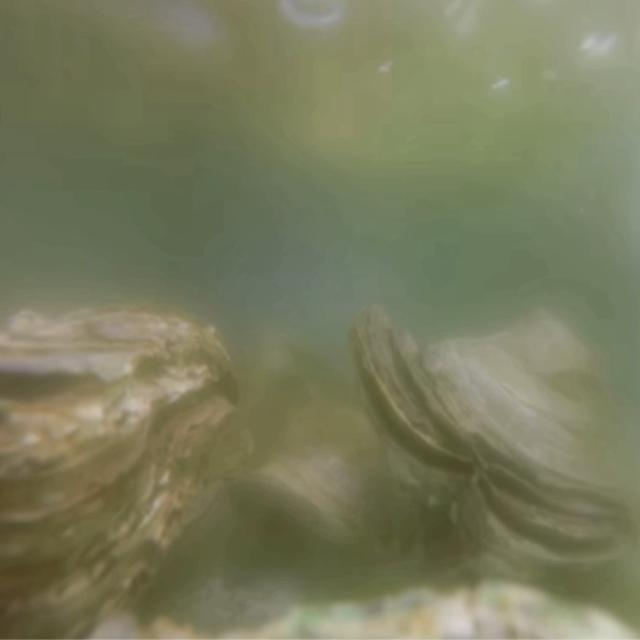Oyster-Closed: (0, 305, 257, 640)
Oyster-Indeterminate: (244, 404, 427, 564)
Oyster-Open: (347, 304, 640, 586)
